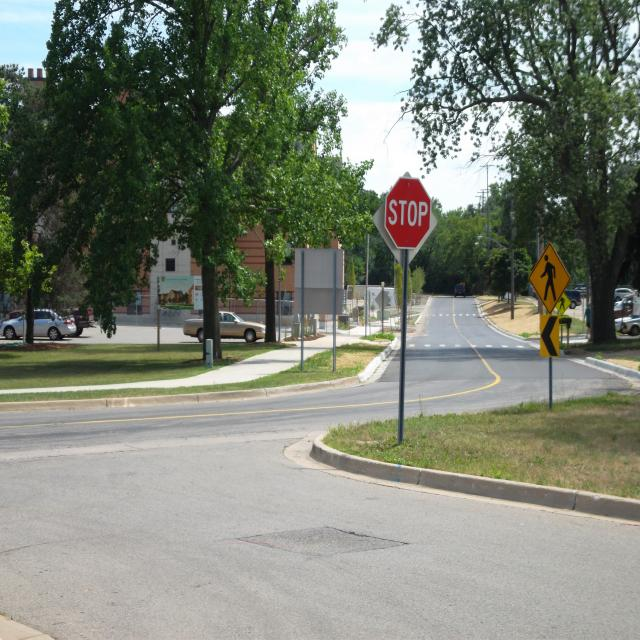stop: (382, 175, 432, 252)
warning: (528, 242, 571, 314)
